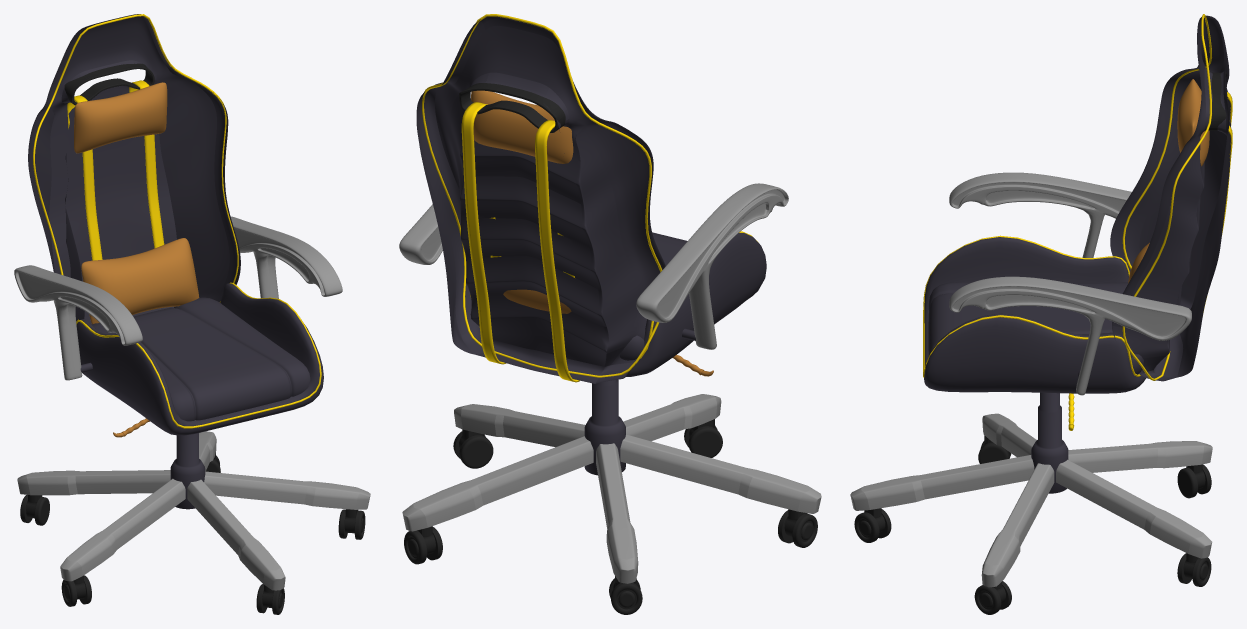
Rendered from gaming_chair.glb.
The picture shows the model from 3 angles, left to right: view 1: azimuth 30°, elevation 25°; view 2: azimuth 150°, elevation 25°; view 3: azimuth 270°, elevation 25°; orthographic projection. The views are drawn at different scales.
Visible parts, largest first — view 1: Plane_0, Plane.003_3, Cube.006_20, Cube.005_19, Cube.001_11, Cube.003_15, Cube.004_17, Cube.002_13, Plane.006_21, Plane.002_2, Cylinder.002_8, Plane.001_1 (+6 smaller); view 2: Plane_0, Plane.003_3, Plane.006_21, Cube.003_15, Cube_9, Cube.005_19, Cube.004_17, Cube.001_11, Cube.002_13, Plane.002_2, Cylinder.002_8, Plane.001_1 (+6 smaller); view 3: Plane_0, Plane.003_3, Cube.002_13, Cube_9, Cube.004_17, Cube.001_11, Cylinder.002_8, Plane.002_2, Cube.003_15, Cube.005_19, Plane.005_4, Cylinder.005_14 (+5 smaller).
Part boxes in pixels (box(x1,y1,x2,y2)): Plane_0: box(14, 14, 342, 380); Plane.003_3: box(76, 283, 323, 435); Cube.006_20: box(81, 238, 199, 324); Cube.005_19: box(74, 82, 167, 153); Cube.001_11: box(204, 471, 370, 509); Cube.003_15: box(60, 478, 185, 581); Cube.004_17: box(17, 470, 170, 495); Cube.002_13: box(187, 479, 285, 590); Plane.006_21: box(67, 80, 164, 260); Plane.002_2: box(33, 14, 238, 302); Cylinder.002_8: box(170, 433, 205, 509); Plane.001_1: box(64, 63, 154, 105); Plane_0: box(399, 16, 788, 383); Plane.003_3: box(620, 232, 766, 376); Plane.006_21: box(461, 102, 579, 382); Cube.003_15: box(620, 434, 821, 513); Cube_9: box(402, 436, 593, 531); Cube.005_19: box(471, 90, 573, 163); Cube.004_17: box(596, 443, 638, 583); Cube.001_11: box(454, 404, 585, 447); Cube.002_13: box(623, 394, 721, 441); Plane.002_2: box(422, 14, 662, 377); Cylinder.002_8: box(584, 379, 625, 475); Plane.001_1: box(459, 83, 565, 132); Plane_0: box(949, 15, 1231, 395); Plane.003_3: box(924, 237, 1145, 393); Cube.002_13: box(850, 455, 1034, 510); Cube_9: box(1056, 459, 1212, 558); Cube.004_17: box(1068, 441, 1212, 472); Cube.001_11: box(981, 463, 1054, 587); Cylinder.002_8: box(1031, 392, 1068, 493); Plane.002_2: box(1122, 14, 1211, 380); Cube.003_15: box(982, 413, 1036, 457); Cube.005_19: box(1177, 79, 1209, 166); Plane.005_4: box(923, 235, 1140, 377); Cylinder.005_14: box(854, 508, 891, 542).
Bounding box in the file's own units: 1.13 × 1.69 × 1.14.
